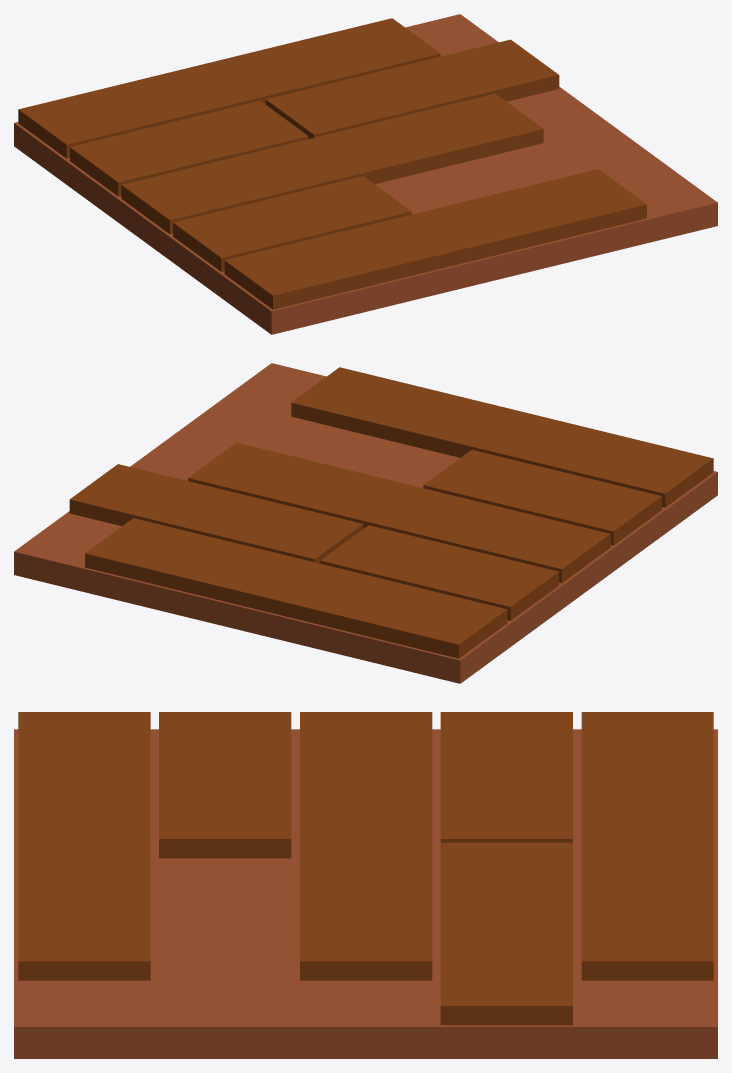
Rendered from Prop_Tile_Terrain_Dungeon_Timber_Panel_07.FBX.
3 views of the same model, one above another, from view 1: azimuth 30°, elevation 25°; view 2: azimuth 150°, elevation 25°; view 3: azimuth 270°, elevation 25° (orthographic). The views are drawn at different scales.
Parts seen in each view (by area): view 1: Prop_Tile_Terrain_Dungeon_Timber_Panel_07; view 2: Prop_Tile_Terrain_Dungeon_Timber_Panel_07; view 3: Prop_Tile_Terrain_Dungeon_Timber_Panel_07.
Boxes of the visible parts, x1,y1,x2,y2 form: Prop_Tile_Terrain_Dungeon_Timber_Panel_07: [14, 14, 717, 334]; Prop_Tile_Terrain_Dungeon_Timber_Panel_07: [14, 363, 717, 683]; Prop_Tile_Terrain_Dungeon_Timber_Panel_07: [14, 712, 717, 1058].
Bounding box in the file's own units: 3000 × 240 × 3000.
